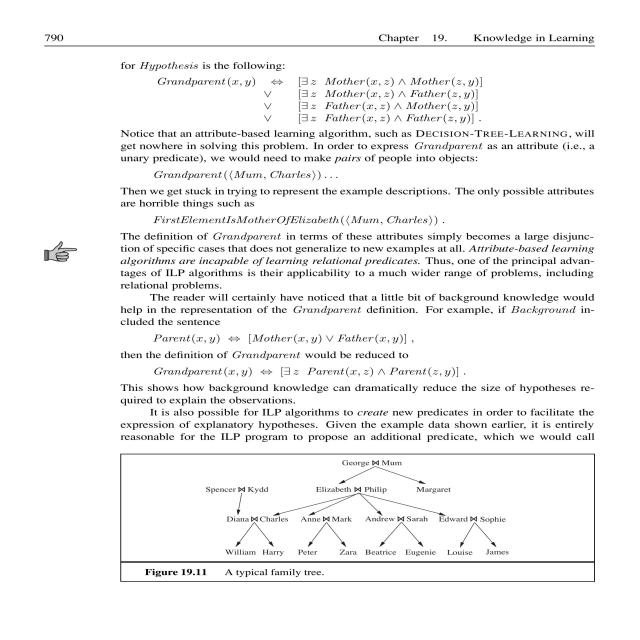diagram: (104, 451, 621, 591)
